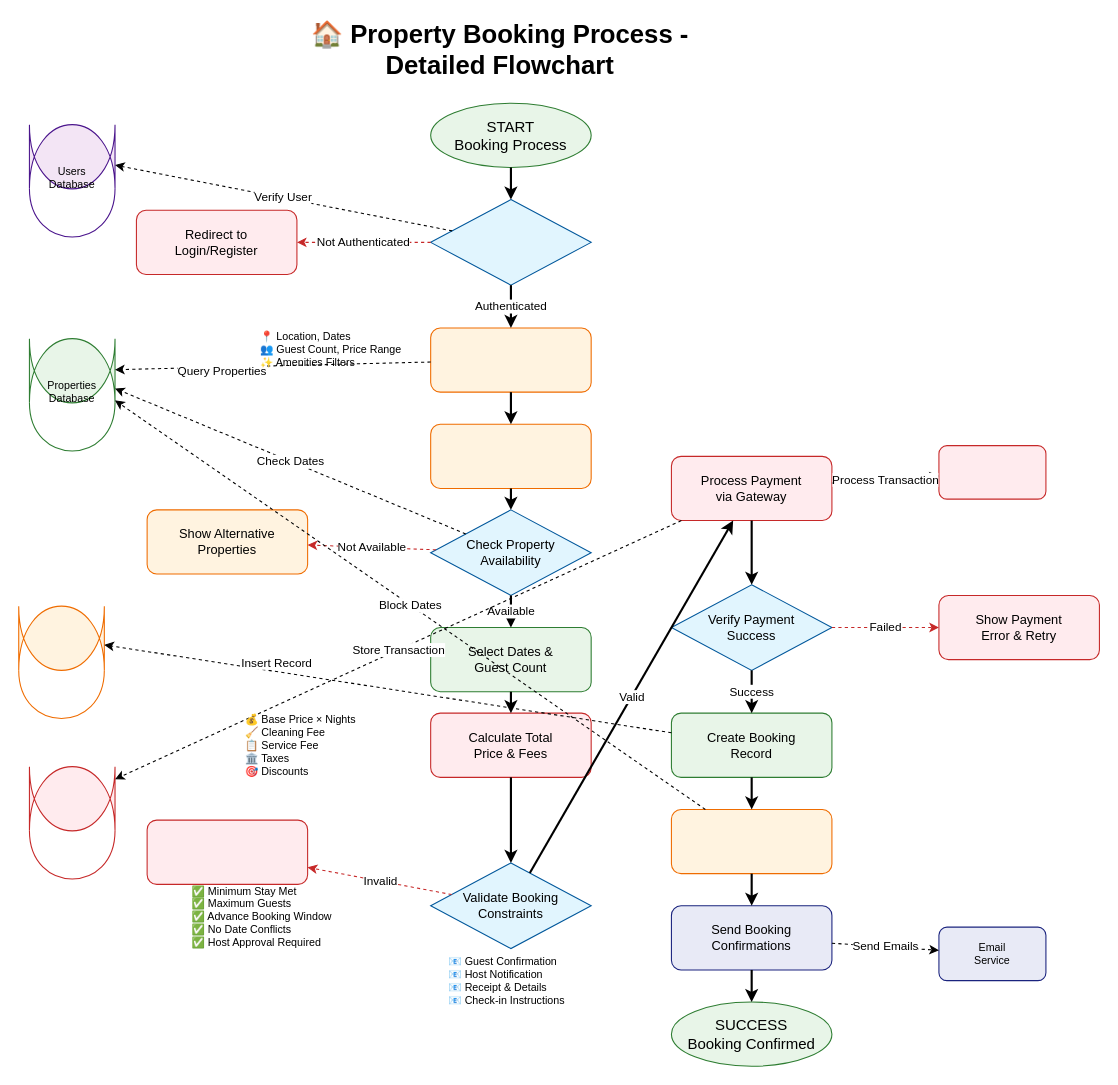
This 1118x1085 diagram has some shape labels left out. The centre of each missing label's shape, as x and y in pixels:
Bookings Database: the point at 61,637
Check User Authentication: the point at 510,241
Payment Gateway: the point at 992,472
Payments Database: the point at 71,798
Search Properties with Filters: the point at 510,359
Show Validation Errors: the point at 227,851
Update Property Availability: the point at 751,841
View Property Details & Reviews: the point at 510,455
